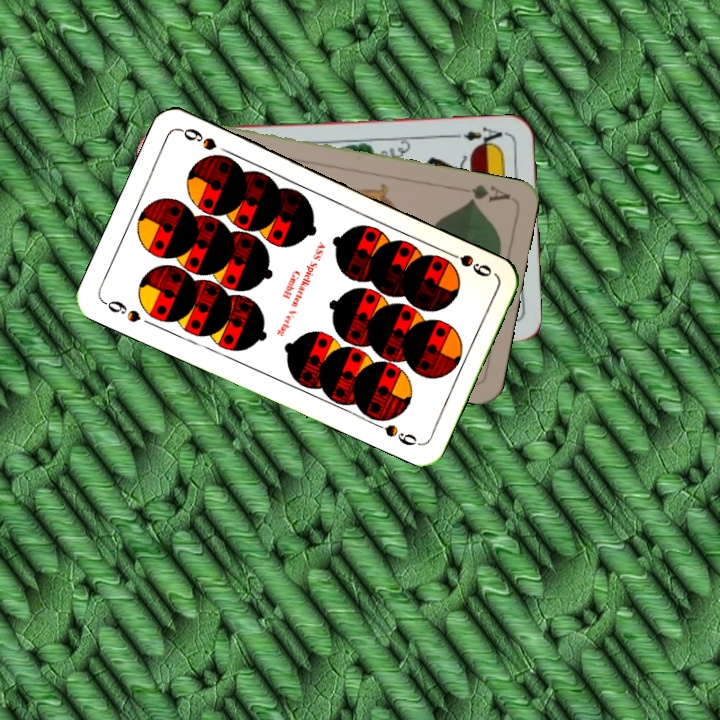EA: (451, 122, 510, 149)
GA: (464, 180, 513, 206)
S9: (440, 246, 495, 280), (99, 296, 143, 325)
